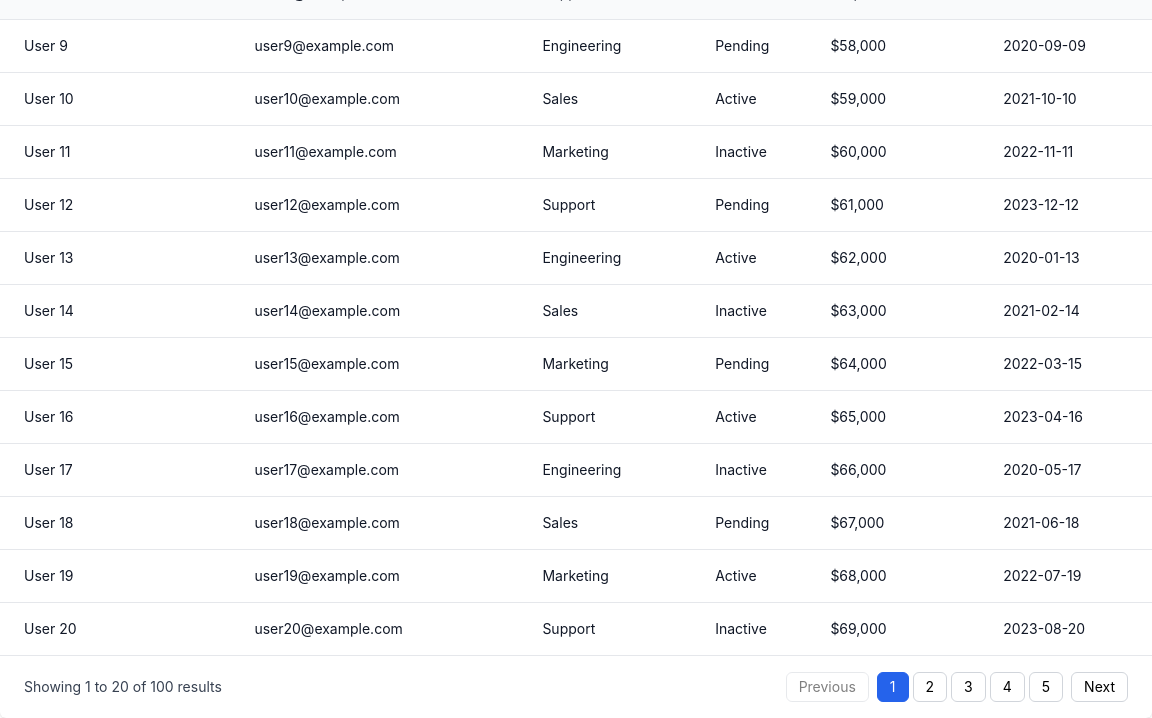
Test: DataTable Integration Tests › Complex Data Handling › handles large datasets efficiently
(page scrolled)
Click the button with test id "next-page": x=1100, y=687 x1=1071 y1=672 x2=1128 y2=702
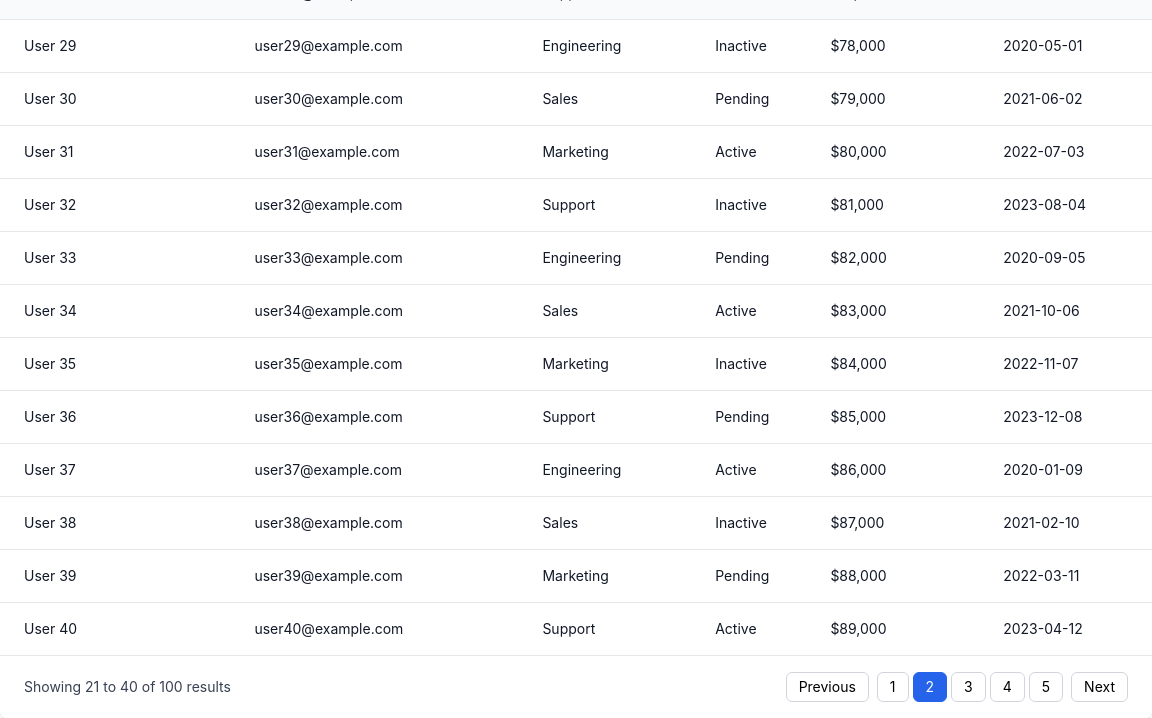
Check: the text "Showing 21 to 40 of 100 results" is shown, box x1=24 y1=677 x2=231 y2=697
